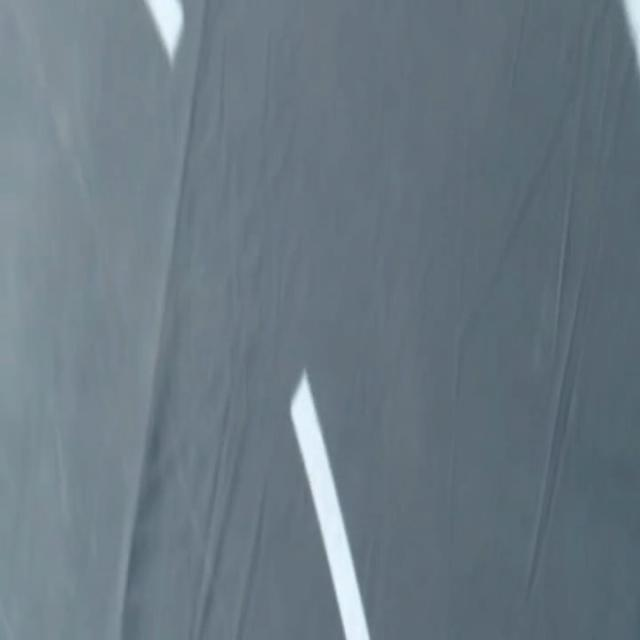center: (291, 371, 370, 639), (144, 0, 183, 64)
right: (623, 0, 639, 67)
